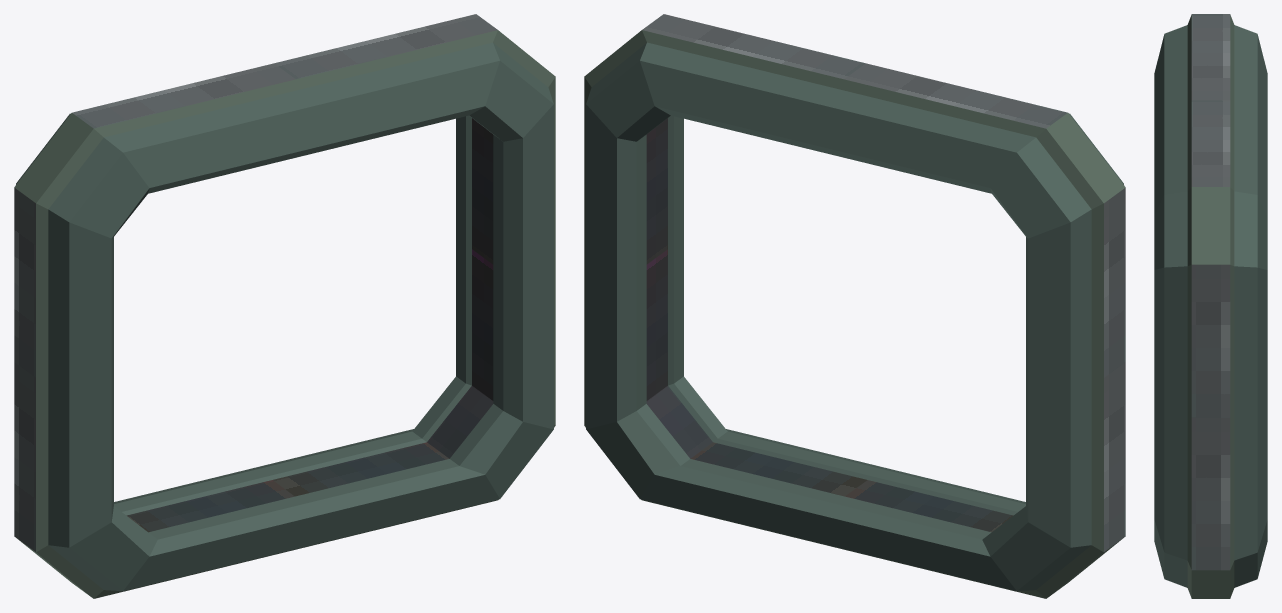
File: entity110884.glb
3 views of the same model, side by side, from view 1: azimuth 30°, elevation 25°; view 2: azimuth 150°, elevation 25°; view 3: azimuth 270°, elevation 25° (orthographic). The views are drawn at different scales.
Parts seen in each view (by area): view 1: node_SM_Bld_Pod_Corridor_Square_Connector_01 (5); view 2: node_SM_Bld_Pod_Corridor_Square_Connector_01 (5); view 3: node_SM_Bld_Pod_Corridor_Square_Connector_01 (5).
Part boxes in pixels (x1,y1,x2,y2): node_SM_Bld_Pod_Corridor_Square_Connector_01 (5): [14, 14, 555, 598]; node_SM_Bld_Pod_Corridor_Square_Connector_01 (5): [584, 14, 1125, 598]; node_SM_Bld_Pod_Corridor_Square_Connector_01 (5): [1154, 14, 1267, 598].
Size of the model in its own units: 5.64 by 4.88 by 1.22.
Materials: 1 (1 with a texture image).
